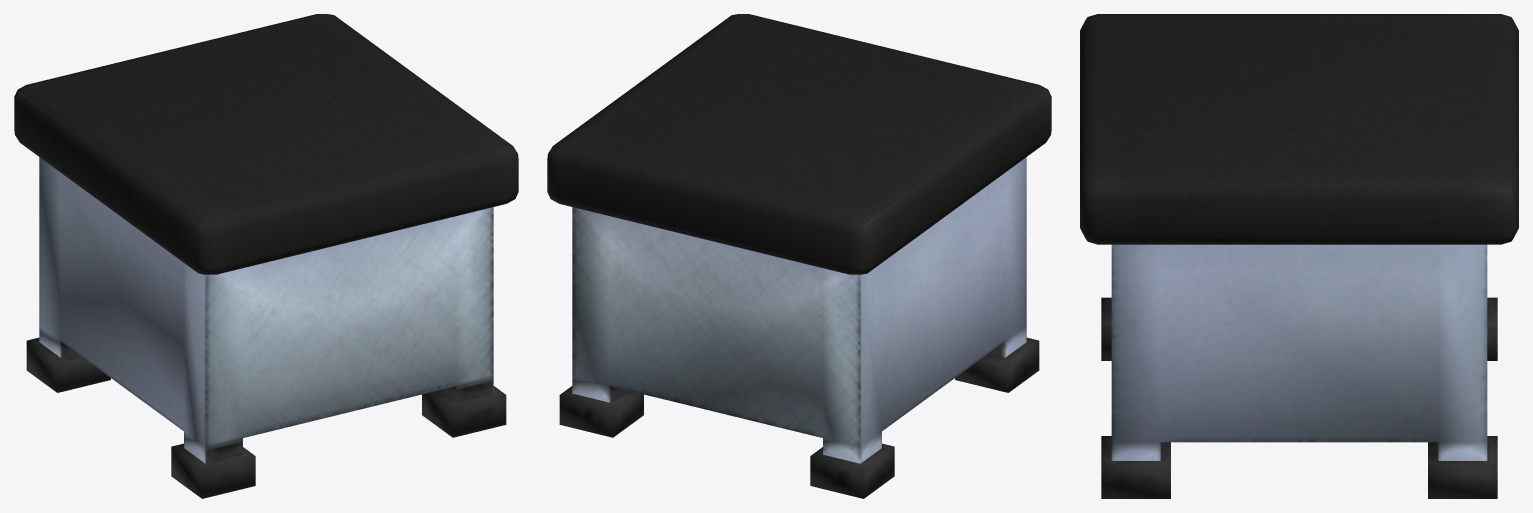
File: Bench_Short_2.fbx
The picture shows the model from 3 angles, left to right: view 1: azimuth 30°, elevation 25°; view 2: azimuth 150°, elevation 25°; view 3: azimuth 270°, elevation 25°; orthographic projection. The views are drawn at different scales.
Visible parts, largest first — view 1: R_BenchT2_2; view 2: R_BenchT2_2; view 3: R_BenchT2_2.
Boxes of the visible parts, bbox=[...] form: R_BenchT2_2: bbox=[14, 14, 518, 498]; R_BenchT2_2: bbox=[547, 14, 1051, 498]; R_BenchT2_2: bbox=[1080, 14, 1518, 498].
Bounding box in the file's own units: 57.63 × 47.96 × 59.84.
1 material, 1 textured.
